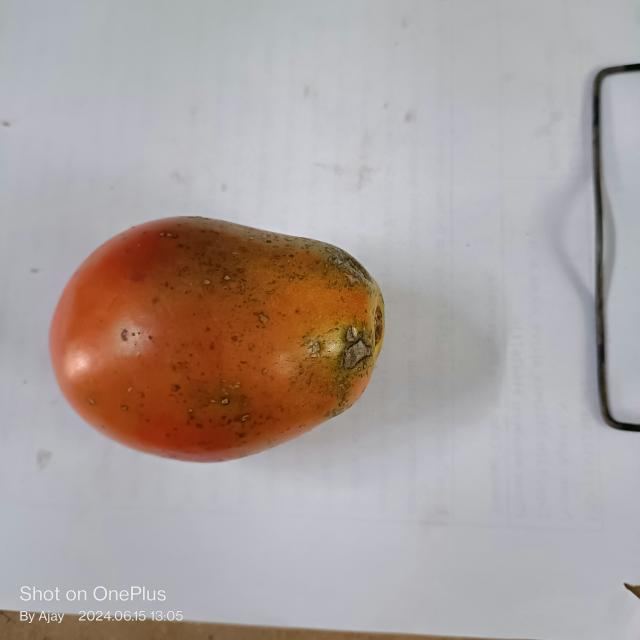Bacterial_Spot: (337, 319, 375, 382), (322, 257, 371, 286)
